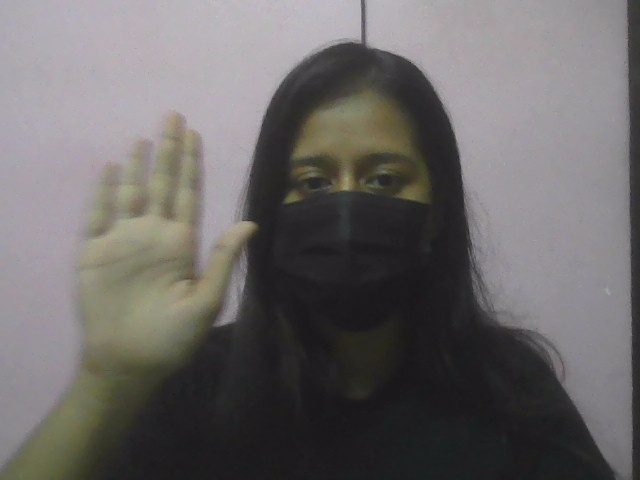Hello: (46, 103, 272, 400)
